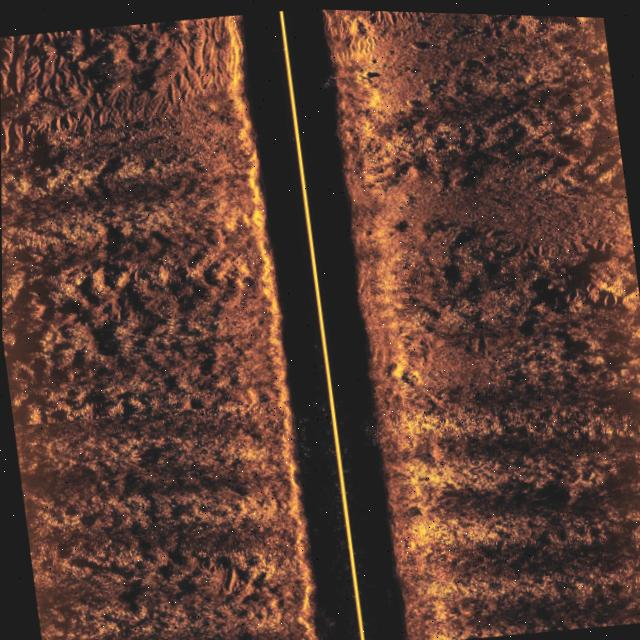mine: (403, 91, 425, 108)
